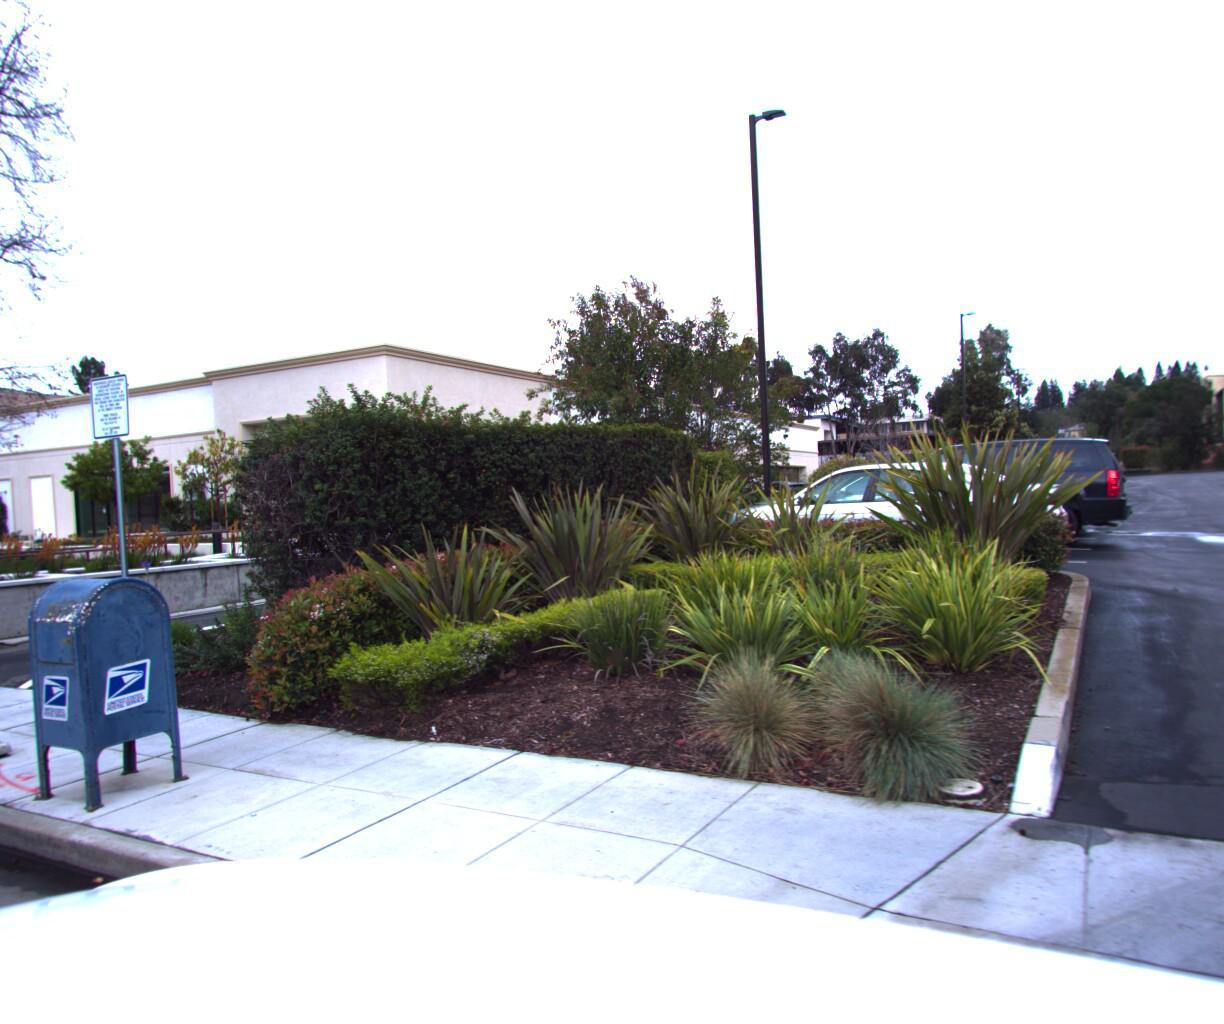car: (695, 454, 1050, 576)
